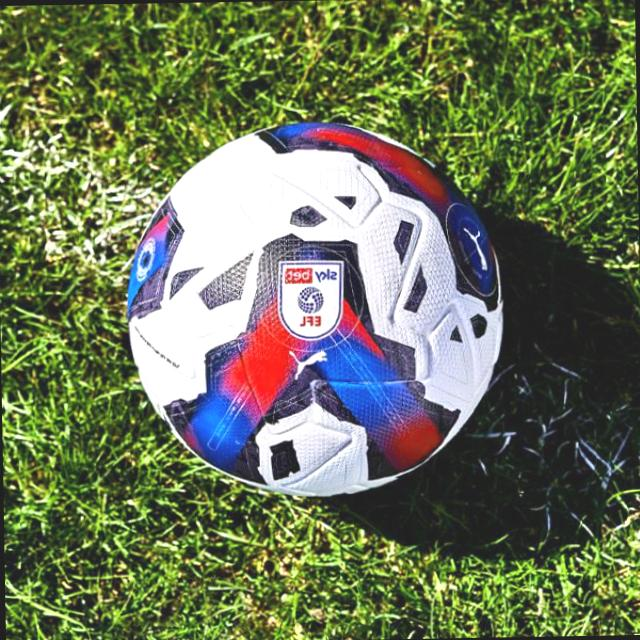ball: (110, 104, 522, 505)
